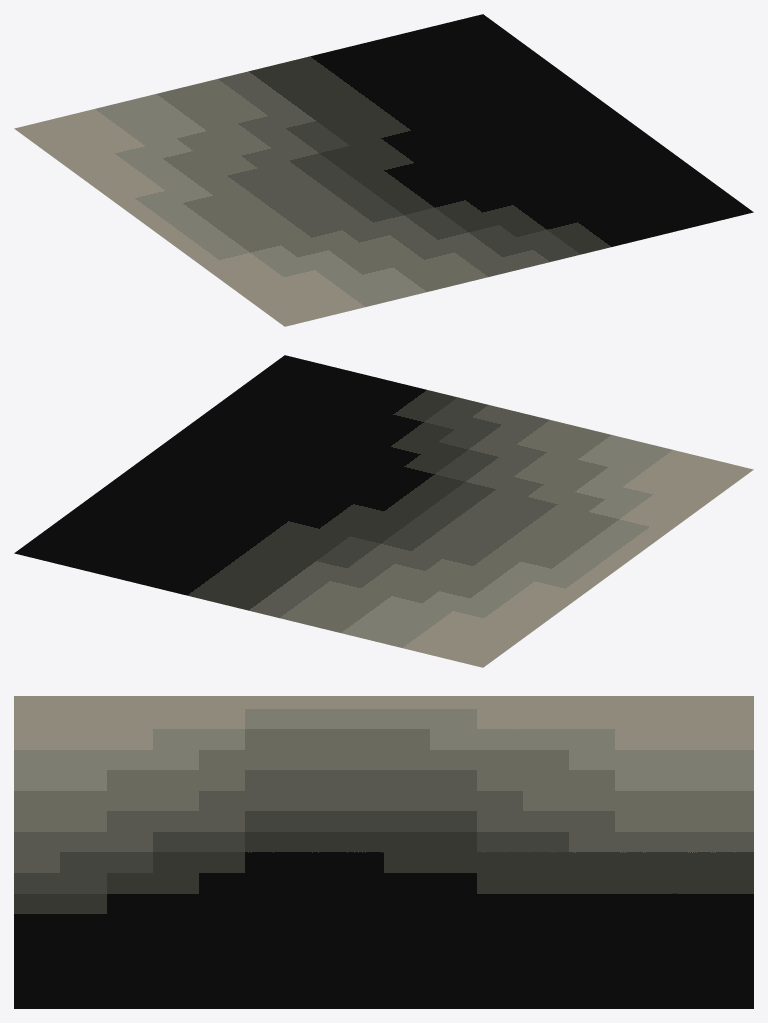
The picture shows the model from 3 angles, top to bottom: view 1: azimuth 30°, elevation 25°; view 2: azimuth 150°, elevation 25°; view 3: azimuth 270°, elevation 25°; orthographic projection. The views are drawn at different scales.
Bounding box in the file's own units: 1 × 0 × 1.
1 material, 1 textured.
